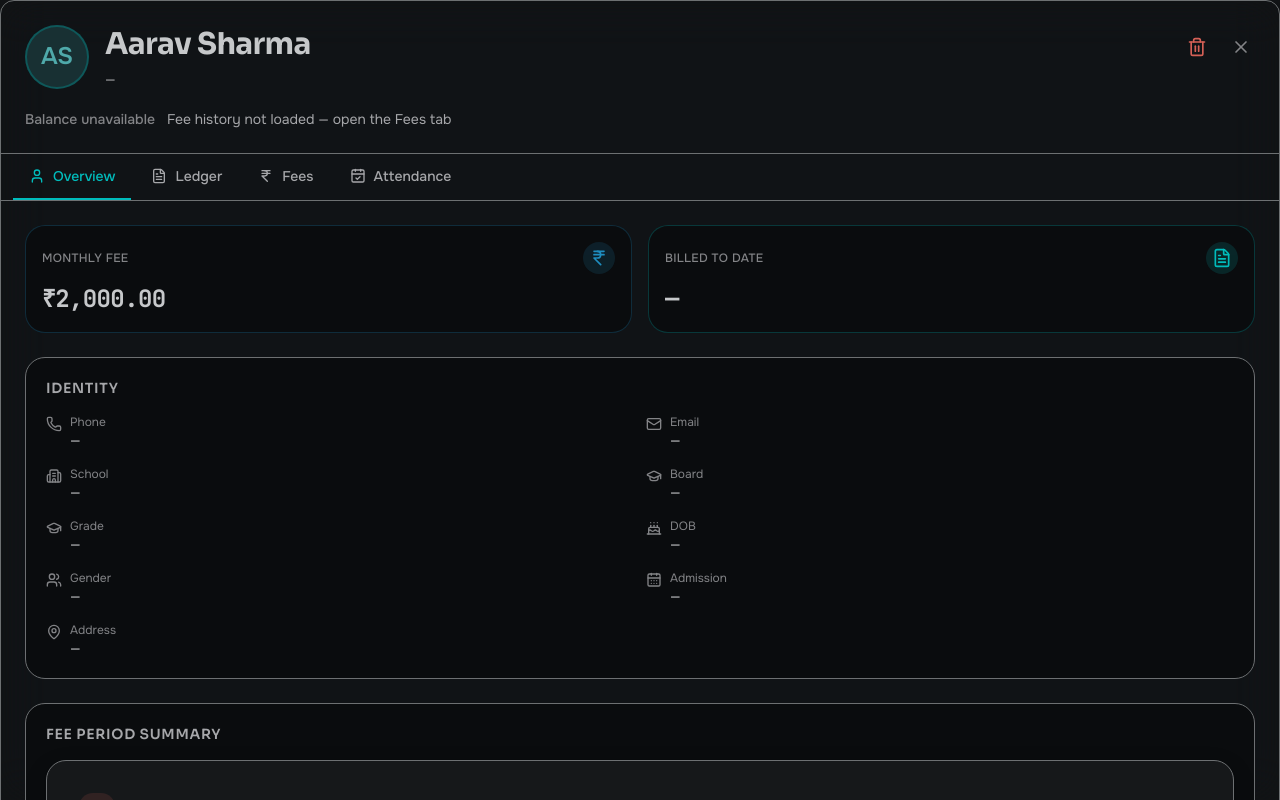
Test: every drawer tab renders content, and points at its own panel (13 §10.4) › never reports a failed invoice read as a money figure (Rule 9, EC-F-02)
The width and height of the screenshot is (1280, 800).
Expected: the heading "Aarav Sharma" is shown, x1=105 y1=25 x2=311 y2=65
Click the tab "Fees" at [286, 177], box x1=242 y1=154 x2=330 y2=200
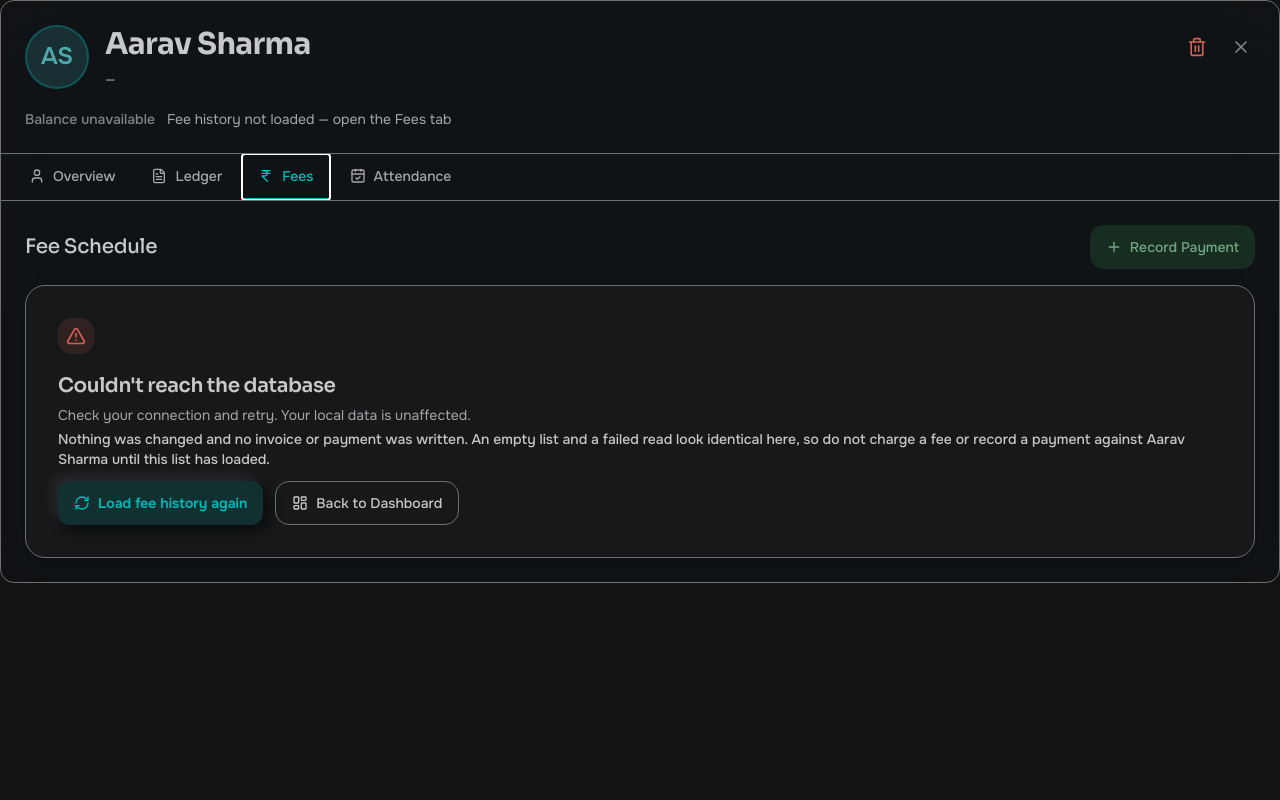
Now the text "do not charge a fee or record a payment" is shown, box x1=58 y1=430 x2=1185 y2=468
